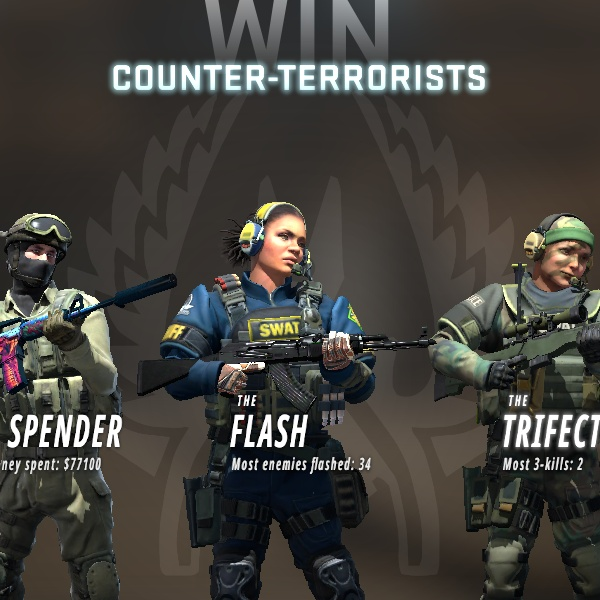ct_body: (152, 185, 375, 589), (395, 183, 599, 593), (1, 201, 134, 579)
ct_head: (217, 192, 346, 295), (1, 202, 102, 293), (507, 200, 598, 293)
